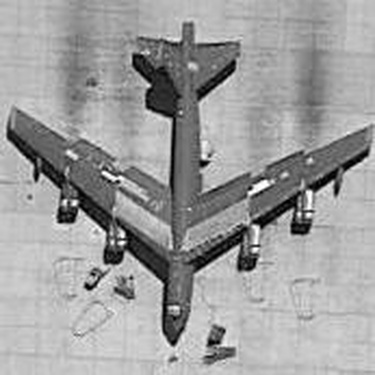airplane: (1, 18, 372, 345)
